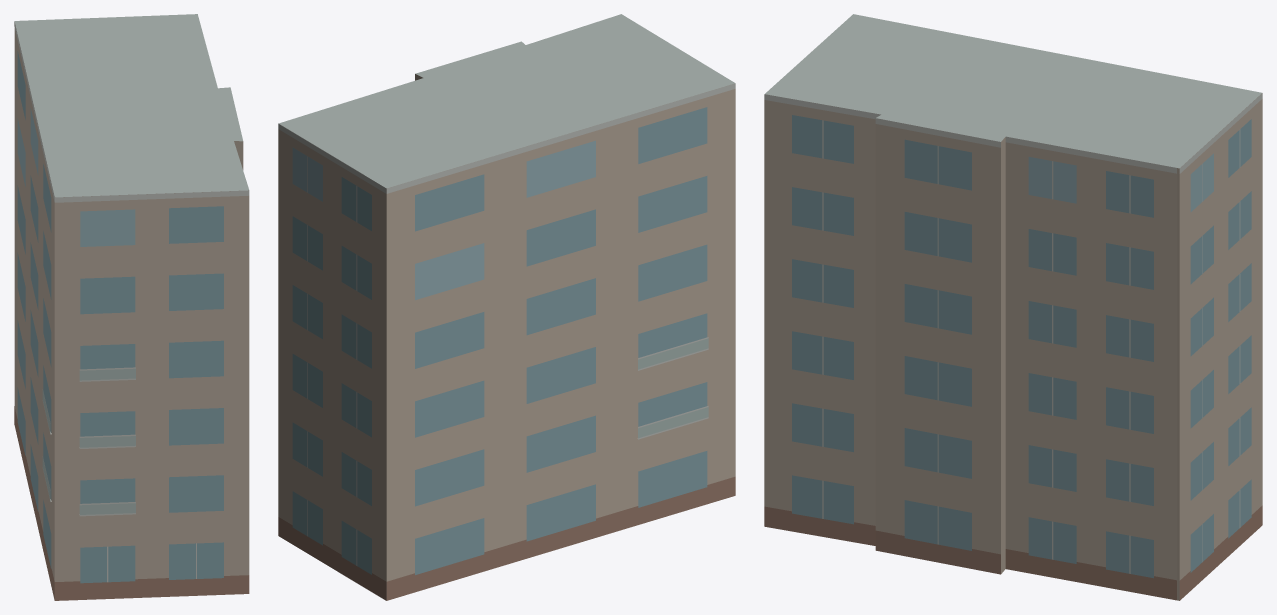
The model's file is survey-upis-32965360.glb.
3 views of the same model, side by side, from view 1: azimuth 30°, elevation 25°; view 2: azimuth 150°, elevation 25°; view 3: azimuth 270°, elevation 25° (orthographic). The views are drawn at different scales.
Visible parts, largest first — view 1: survey-upis-32965360.tmp; view 2: survey-upis-32965360.tmp; view 3: survey-upis-32965360.tmp.
Part boxes in pixels (<box>): survey-upis-32965360.tmp: <box>14,14,249,600</box>; survey-upis-32965360.tmp: <box>278,14,735,600</box>; survey-upis-32965360.tmp: <box>764,14,1262,600</box>.
Bounding box in the file's own units: 14.02 × 18.3 × 19.11.
